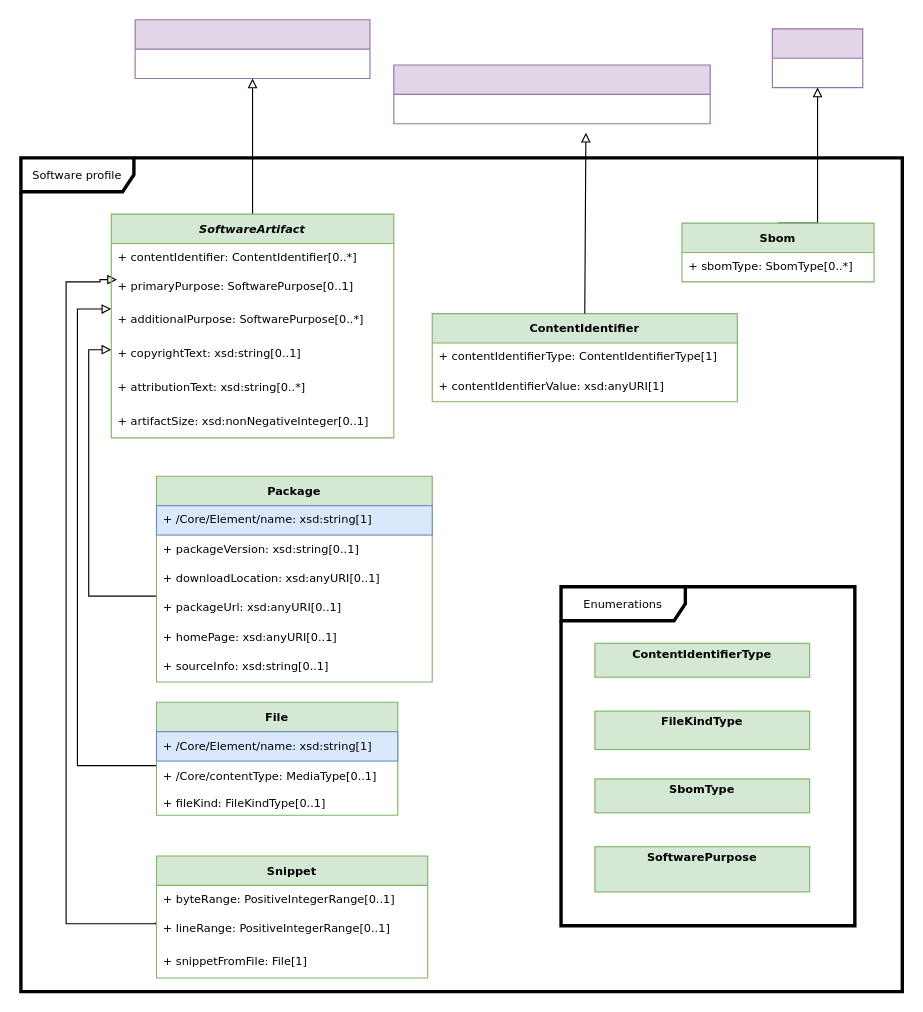
Image size: 923x1012. Some labels were removed from this diagram. Each missing label, with the centre of its shape:
Core/ Artifact: the point at 252,49
Core/ Bom: the point at 817,58
Core/ IntegrityMethod: the point at 551,94
